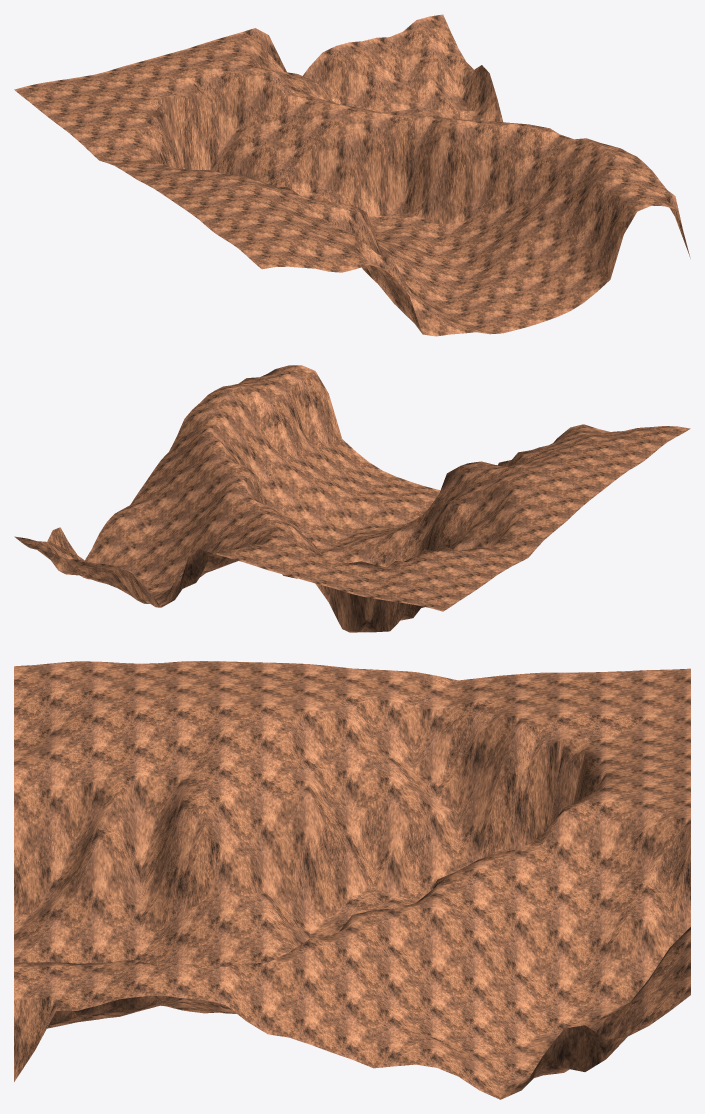
Rendered from terrain_02_22.dae.
3 views of the same model, one above another, from view 1: azimuth 30°, elevation 25°; view 2: azimuth 150°, elevation 25°; view 3: azimuth 270°, elevation 25° (orthographic). The views are drawn at different scales.
Parts seen in each view (by area): view 1: terrain_02_22-node; view 2: terrain_02_22-node; view 3: terrain_02_22-node.
Boxes of the visible parts, <box> form: terrain_02_22-node: <box>14,14,690,336</box>; terrain_02_22-node: <box>14,365,690,632</box>; terrain_02_22-node: <box>14,661,690,1099</box>.
Size of the model in its own units: 128 by 128 by 36.55.
1 material, 1 textured.
